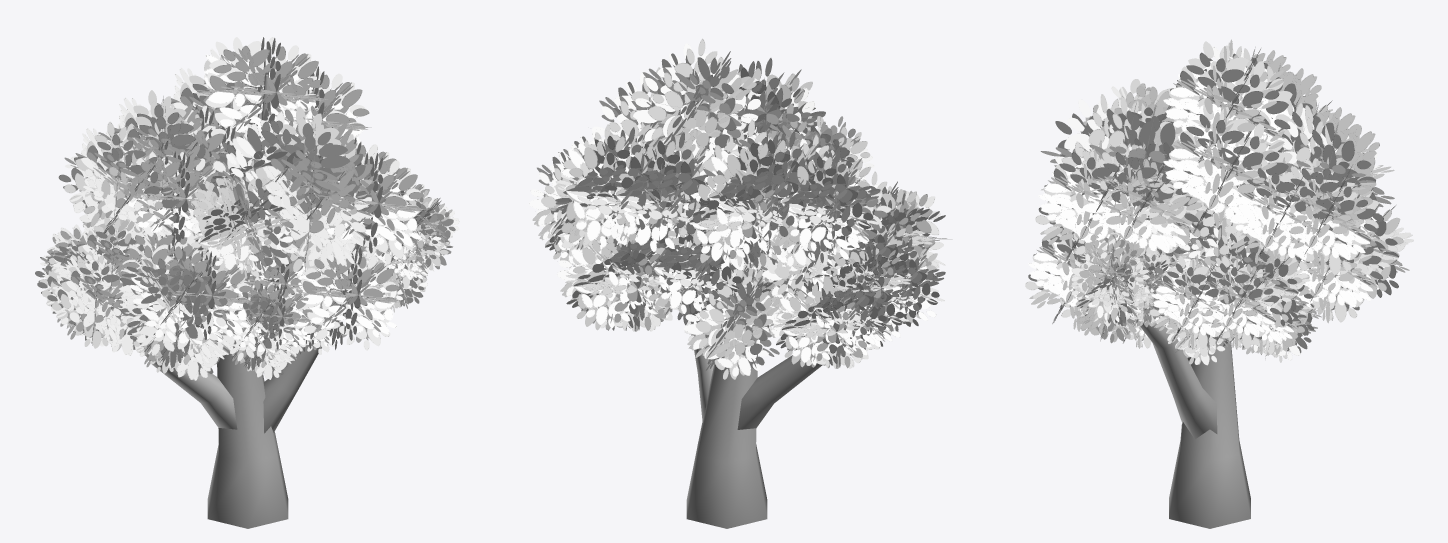
Rendered from Tree.fbx.
3 renders of one model, left to right at view 1: azimuth 30°, elevation 25°; view 2: azimuth 150°, elevation 25°; view 3: azimuth 270°, elevation 25°, orthographic. The views are drawn at different scales.
Parts seen in each view (by area): view 1: pPlane114, pCylinder13; view 2: pPlane114, pCylinder13; view 3: pPlane114, pCylinder13.
Part boxes in pixels (bbox=[...]): pPlane114: bbox=[35, 37, 459, 380]; pCylinder13: bbox=[82, 74, 430, 528]; pPlane114: bbox=[528, 38, 952, 379]; pCylinder13: bbox=[662, 86, 890, 528]; pPlane114: bbox=[1025, 39, 1413, 365]; pCylinder13: bbox=[1100, 88, 1250, 528].
Size of the model in its own units: 14.14 by 15.99 by 12.7.
2 materials, 1 textured.
